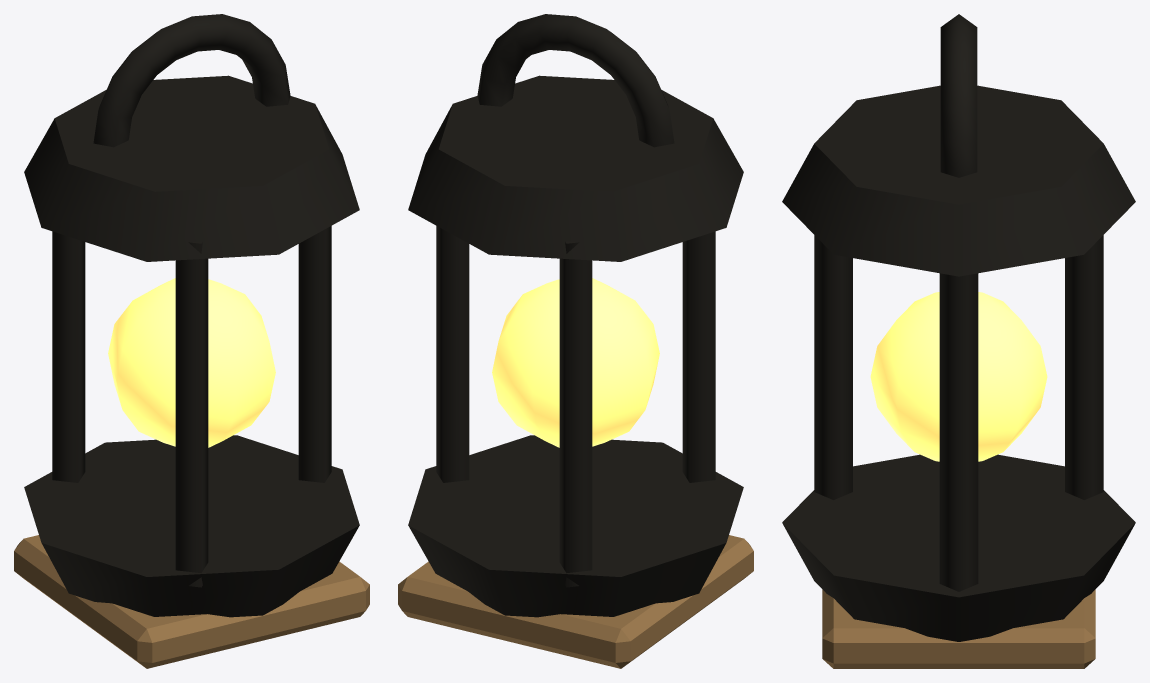
Rendered from lantern.glb.
3 views of the same model, side by side, from view 1: azimuth 30°, elevation 25°; view 2: azimuth 150°, elevation 25°; view 3: azimuth 270°, elevation 25° (orthographic).
Visible parts, largest first — view 1: Hand_lantern, Lantern_foot; view 2: Hand_lantern, Lantern_foot; view 3: Hand_lantern, Lantern_foot.
Part boxes in pixels (x1,y1,x2,y2): Hand_lantern: (24, 14, 359, 617); Lantern_foot: (14, 535, 369, 668); Hand_lantern: (408, 14, 743, 617); Lantern_foot: (398, 535, 753, 668); Hand_lantern: (782, 14, 1135, 641); Lantern_foot: (822, 589, 1095, 668).
Bounding box in the file's own units: 0.22 × 0.406 × 0.22.
